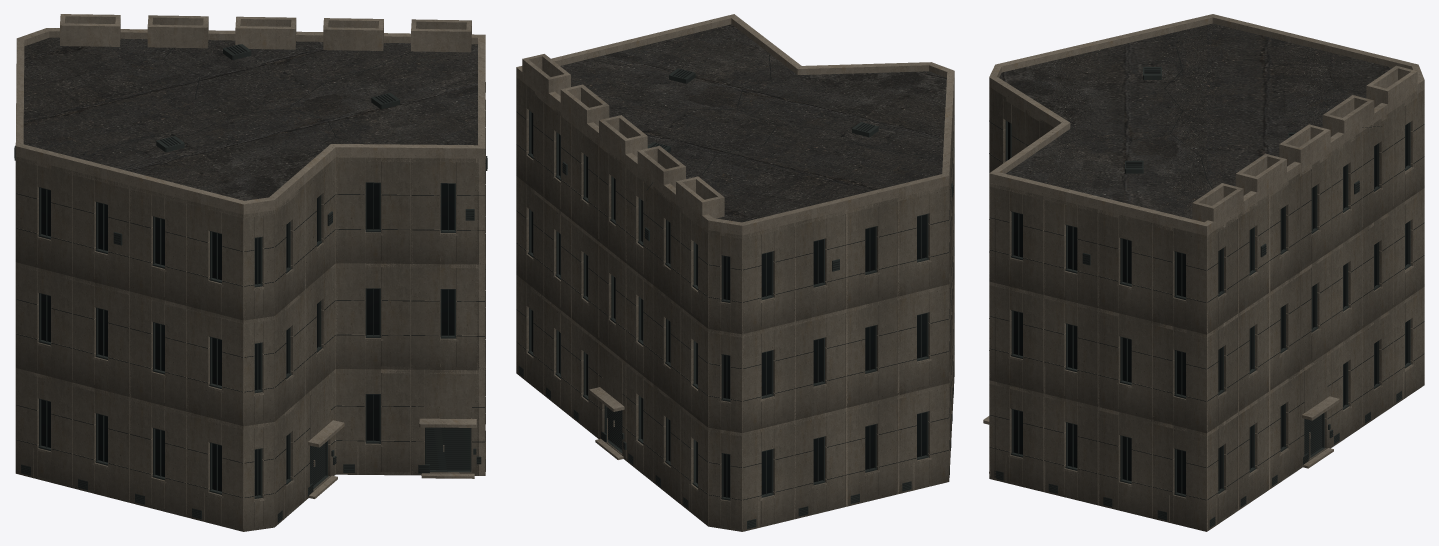
The model's file is fortress_light_a_52.glb.
3 views of the same model, side by side, from view 1: azimuth 30°, elevation 25°; view 2: azimuth 150°, elevation 25°; view 3: azimuth 270°, elevation 25° (orthographic). The views are drawn at different scales.
Parts seen in each view (by area): view 1: fortress_light_a_52-lod0-roof0, fortress_light_a_52-lod0-base0, fortress_light_a_52-lod0-floor1, fortress_light_a_52-lod0-floor0; view 2: fortress_light_a_52-lod0-roof0, fortress_light_a_52-lod0-base0, fortress_light_a_52-lod0-floor0, fortress_light_a_52-lod0-floor1; view 3: fortress_light_a_52-lod0-roof0, fortress_light_a_52-lod0-floor1, fortress_light_a_52-lod0-base0, fortress_light_a_52-lod0-floor0.
Part boxes in pixels (x1=…): fortress_light_a_52-lod0-roof0: x1=15, y1=14, x2=485, y2=214; fortress_light_a_52-lod0-base0: x1=15, y1=319, x2=485, y2=531; fortress_light_a_52-lod0-floor1: x1=14, y1=82, x2=487, y2=320; fortress_light_a_52-lod0-floor0: x1=15, y1=213, x2=485, y2=426; fortress_light_a_52-lod0-roof0: x1=516, y1=14, x2=954, y2=235; fortress_light_a_52-lod0-base0: x1=516, y1=275, x2=954, y2=531; fortress_light_a_52-lod0-floor0: x1=516, y1=176, x2=954, y2=432; fortress_light_a_52-lod0-floor1: x1=516, y1=77, x2=954, y2=334; fortress_light_a_52-lod0-roof0: x1=989, y1=14, x2=1424, y2=235; fortress_light_a_52-lod0-floor1: x1=989, y1=87, x2=1424, y2=334; fortress_light_a_52-lod0-base0: x1=983, y1=287, x2=1424, y2=531; fortress_light_a_52-lod0-floor0: x1=989, y1=188, x2=1424, y2=433.
Size of what is drawn, in the model's own units: 83.12 by 58.15 by 73.02.
Materials: 5 (2 with a texture image).
